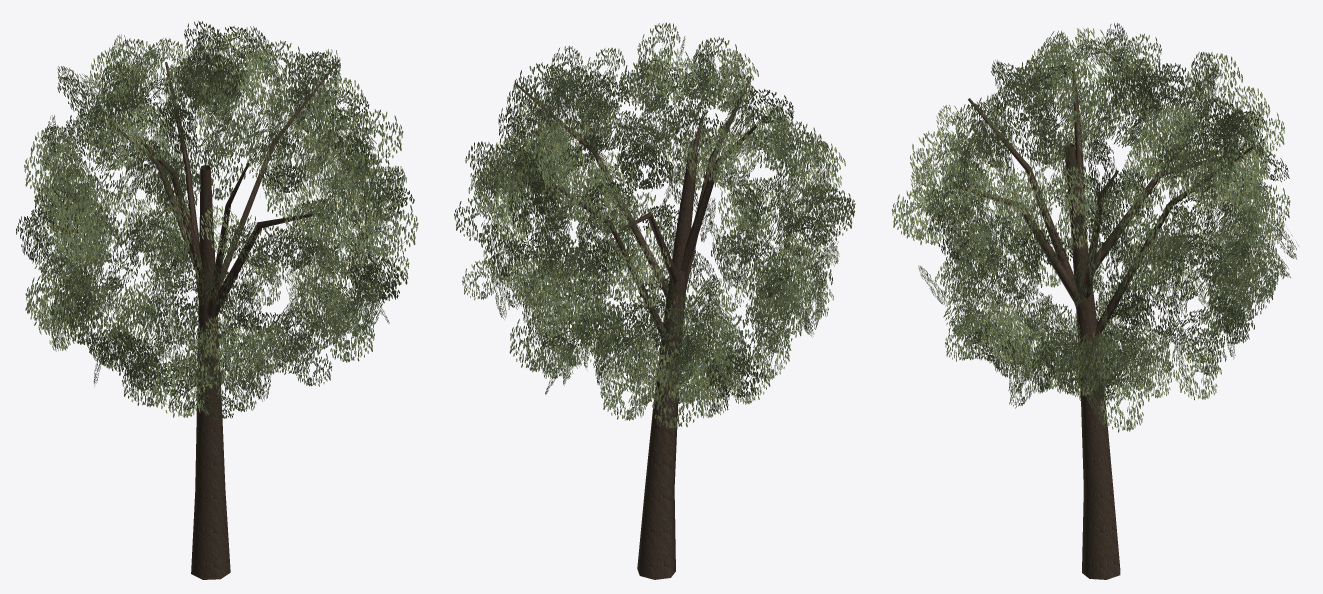
Rendered from tpl_westdike_dike_willow_hi.glb.
3 views of the same model, side by side, from view 1: azimuth 30°, elevation 25°; view 2: azimuth 150°, elevation 25°; view 3: azimuth 270°, elevation 25° (orthographic). The views are drawn at different scales.
Visible parts, largest first — view 1: tpl_westdike_dike_willow_hi; view 2: tpl_westdike_dike_willow_hi; view 3: tpl_westdike_dike_willow_hi.
Boxes of the visible parts, box(x1,y1,x2,y2) form: tpl_westdike_dike_willow_hi: box(16, 21, 418, 579); tpl_westdike_dike_willow_hi: box(454, 22, 855, 579); tpl_westdike_dike_willow_hi: box(892, 23, 1298, 579).
Size of the model in its own units: 11.18 by 15.97 by 11.26.
2 materials, 2 textured.
